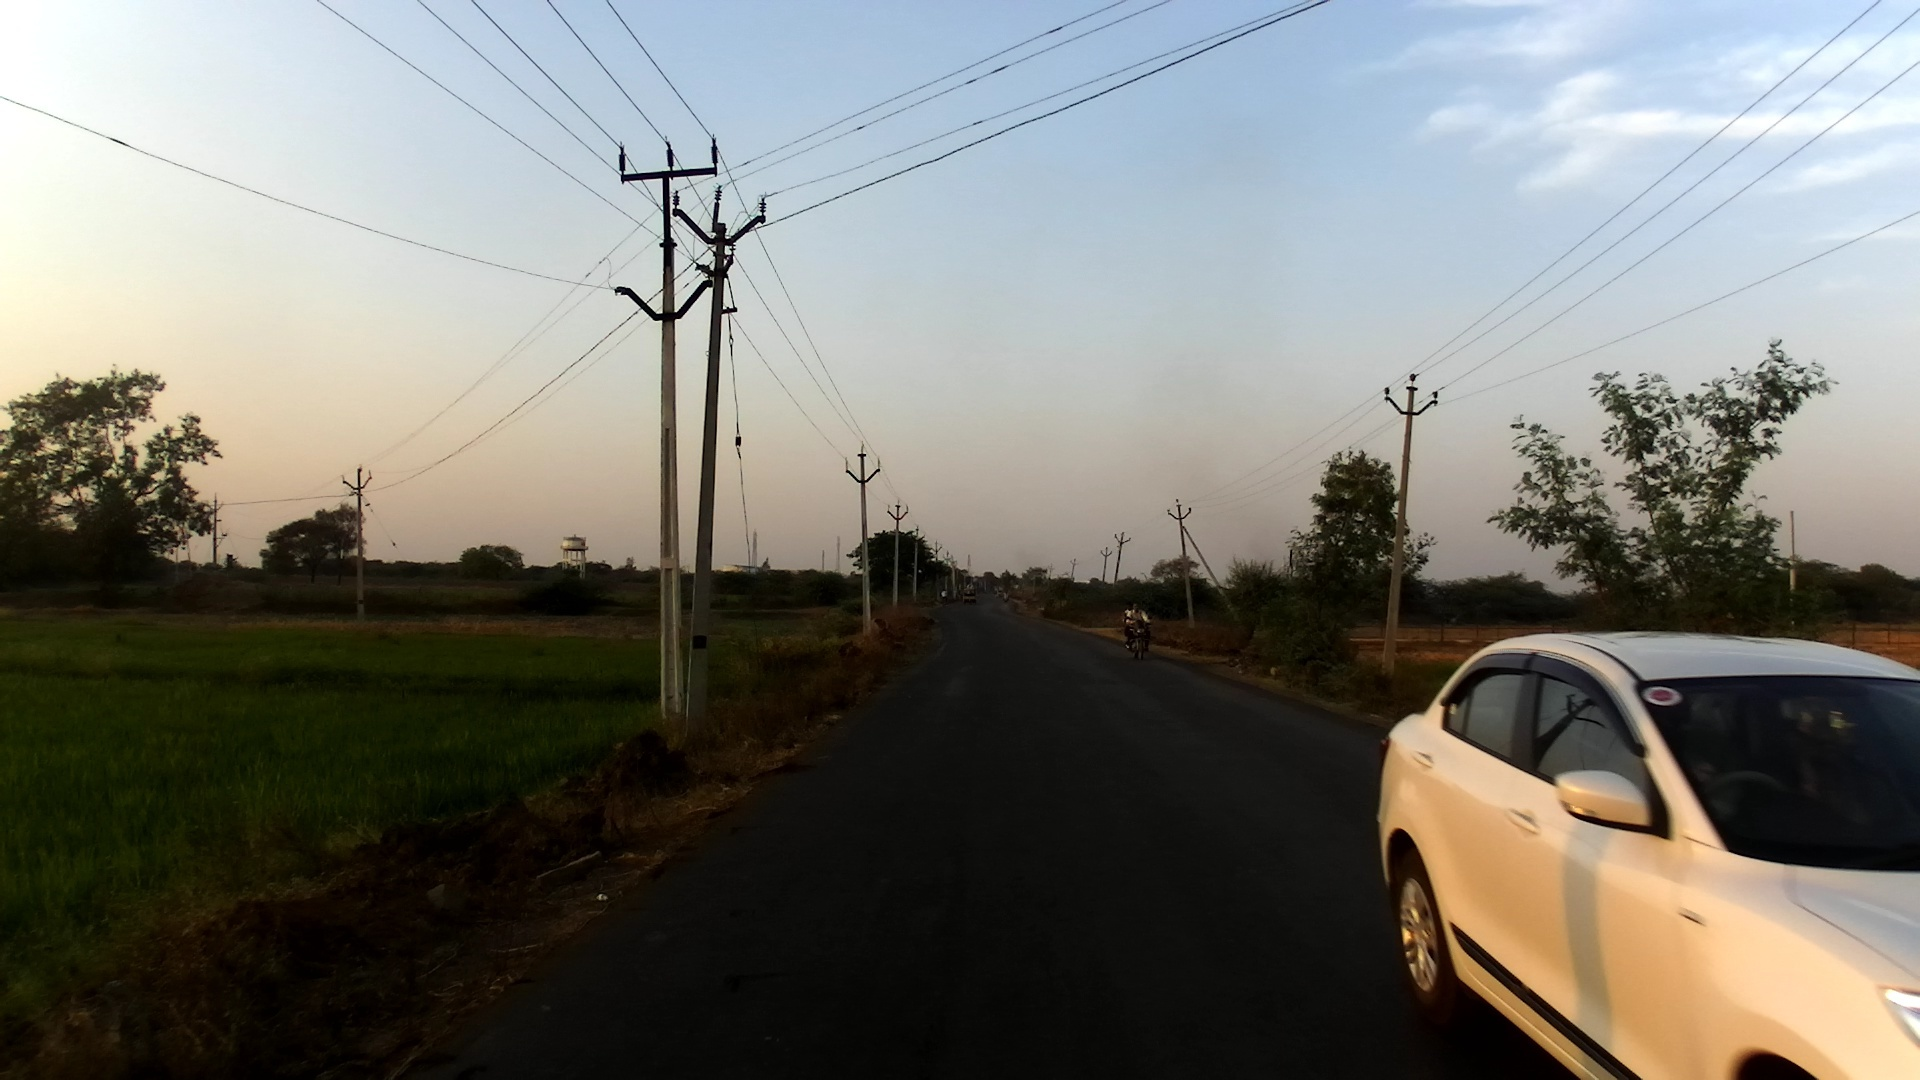autorickshaw: (960, 584, 978, 605)
car: (1370, 630, 1920, 1065)
motorcycle: (1123, 617, 1156, 664)
person: (939, 586, 949, 608)
rider: (1124, 601, 1153, 648), (1122, 602, 1133, 648)
vehicle fallback: (1002, 591, 1011, 602)
